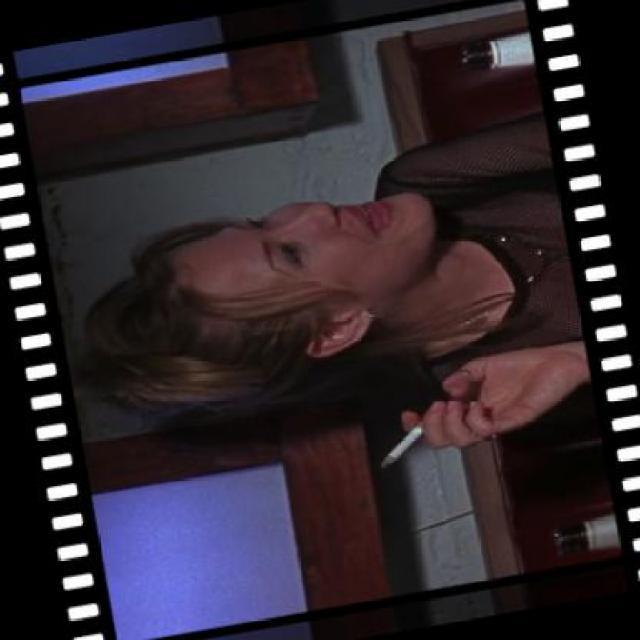smoke: (371, 416, 434, 467)
